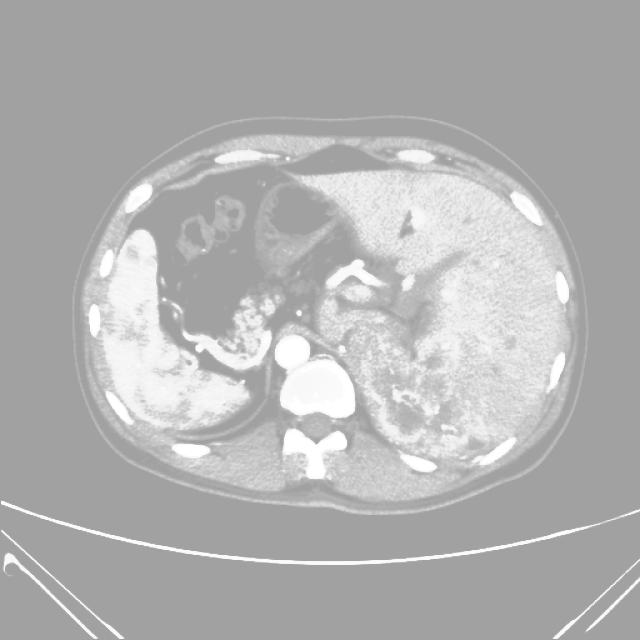TUMOR: (95, 127, 415, 449)
